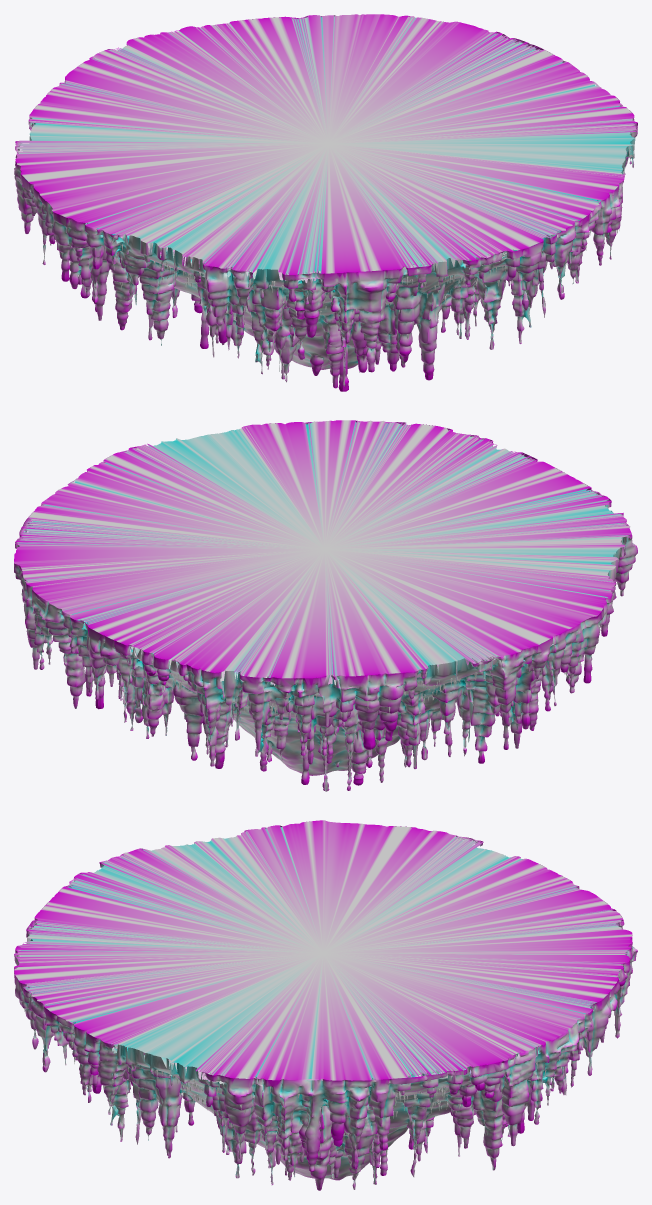
The model's file is Cidade_Rocha.fbx.
3 renders of one model, top to bottom at view 1: azimuth 30°, elevation 25°; view 2: azimuth 150°, elevation 25°; view 3: azimuth 270°, elevation 25°, orthographic.
Visible parts, largest first — view 1: Cidade_Rocha, Cidade_Rocha_Gelo; view 2: Cidade_Rocha, Cidade_Rocha_Gelo; view 3: Cidade_Rocha, Cidade_Rocha_Gelo.
Boxes of the visible parts, <box> form: Cidade_Rocha: <box>14,14,637,391</box>; Cidade_Rocha_Gelo: <box>50,165,626,341</box>; Cidade_Rocha: <box>14,420,637,791</box>; Cidade_Rocha_Gelo: <box>48,627,566,757</box>; Cidade_Rocha: <box>14,820,637,1190</box>; Cidade_Rocha_Gelo: <box>24,1008,573,1155</box>.
Bounding box in the file's own units: 689 × 259 × 689.
